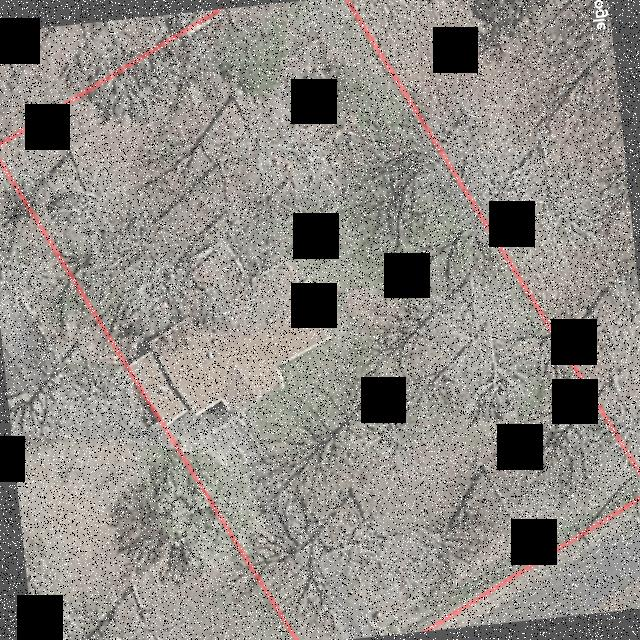House: (128, 258, 335, 428)
